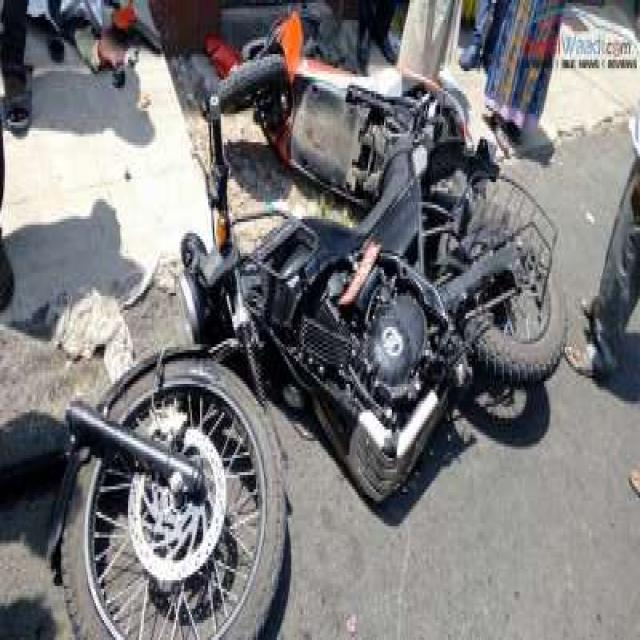accident: (55, 122, 564, 637)
